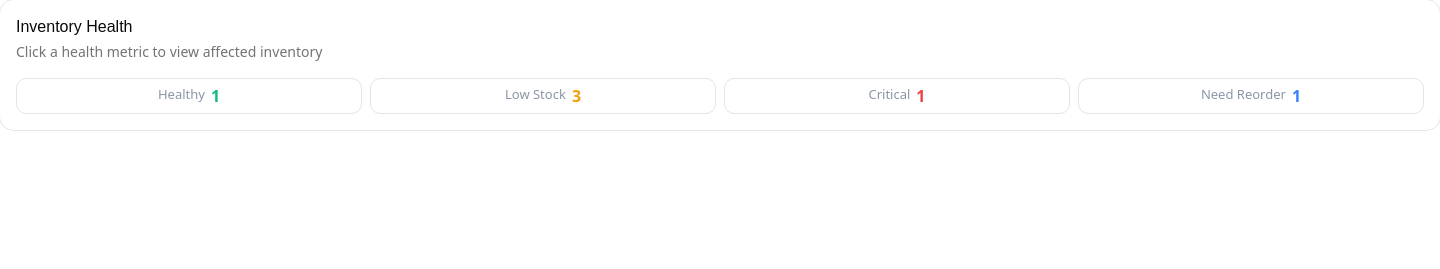
Test: InventoryHealth › filters healthy inventory
Click the button "Healthy 1" at (189, 96), box [16,78,362,114]
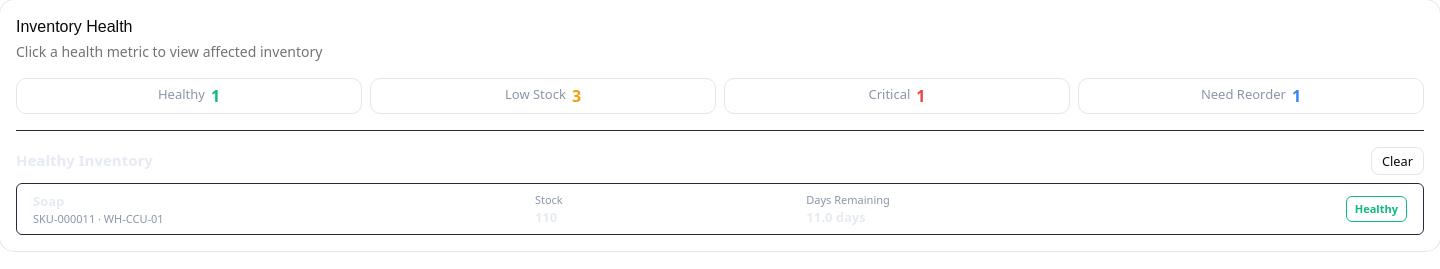
Expected: the heading "Healthy Inventory" is shown, [16,150,153,172]
Expected: the text "Soap" is shown, [33,192,64,210]
Expected: the text "11.0 days" is shown, [806,208,866,226]
